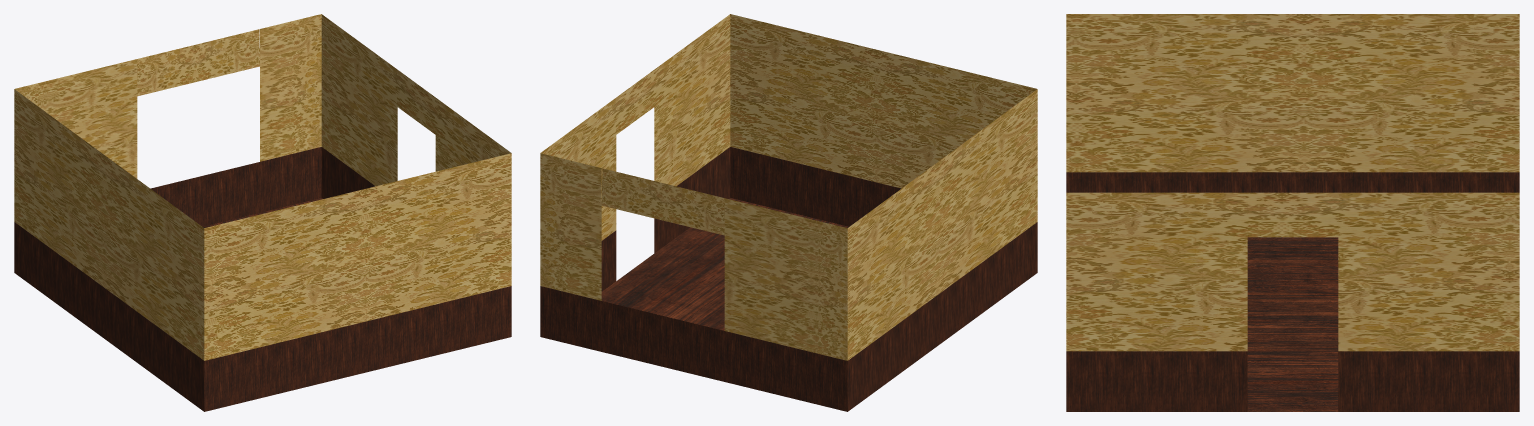
The model's file is room.fbx.
The picture shows the model from 3 angles, left to right: view 1: azimuth 30°, elevation 25°; view 2: azimuth 150°, elevation 25°; view 3: azimuth 270°, elevation 25°; orthographic projection. The views are drawn at different scales.
Parts seen in each view (by area): view 1: room:Mesh; view 2: room:Mesh; view 3: room:Mesh.
Boxes of the visible parts, x1,y1,x2,y2 form: room:Mesh: [14, 14, 511, 411]; room:Mesh: [540, 14, 1037, 411]; room:Mesh: [1066, 14, 1519, 411].
Size of the model in its own units: 210 by 120 by 225.
